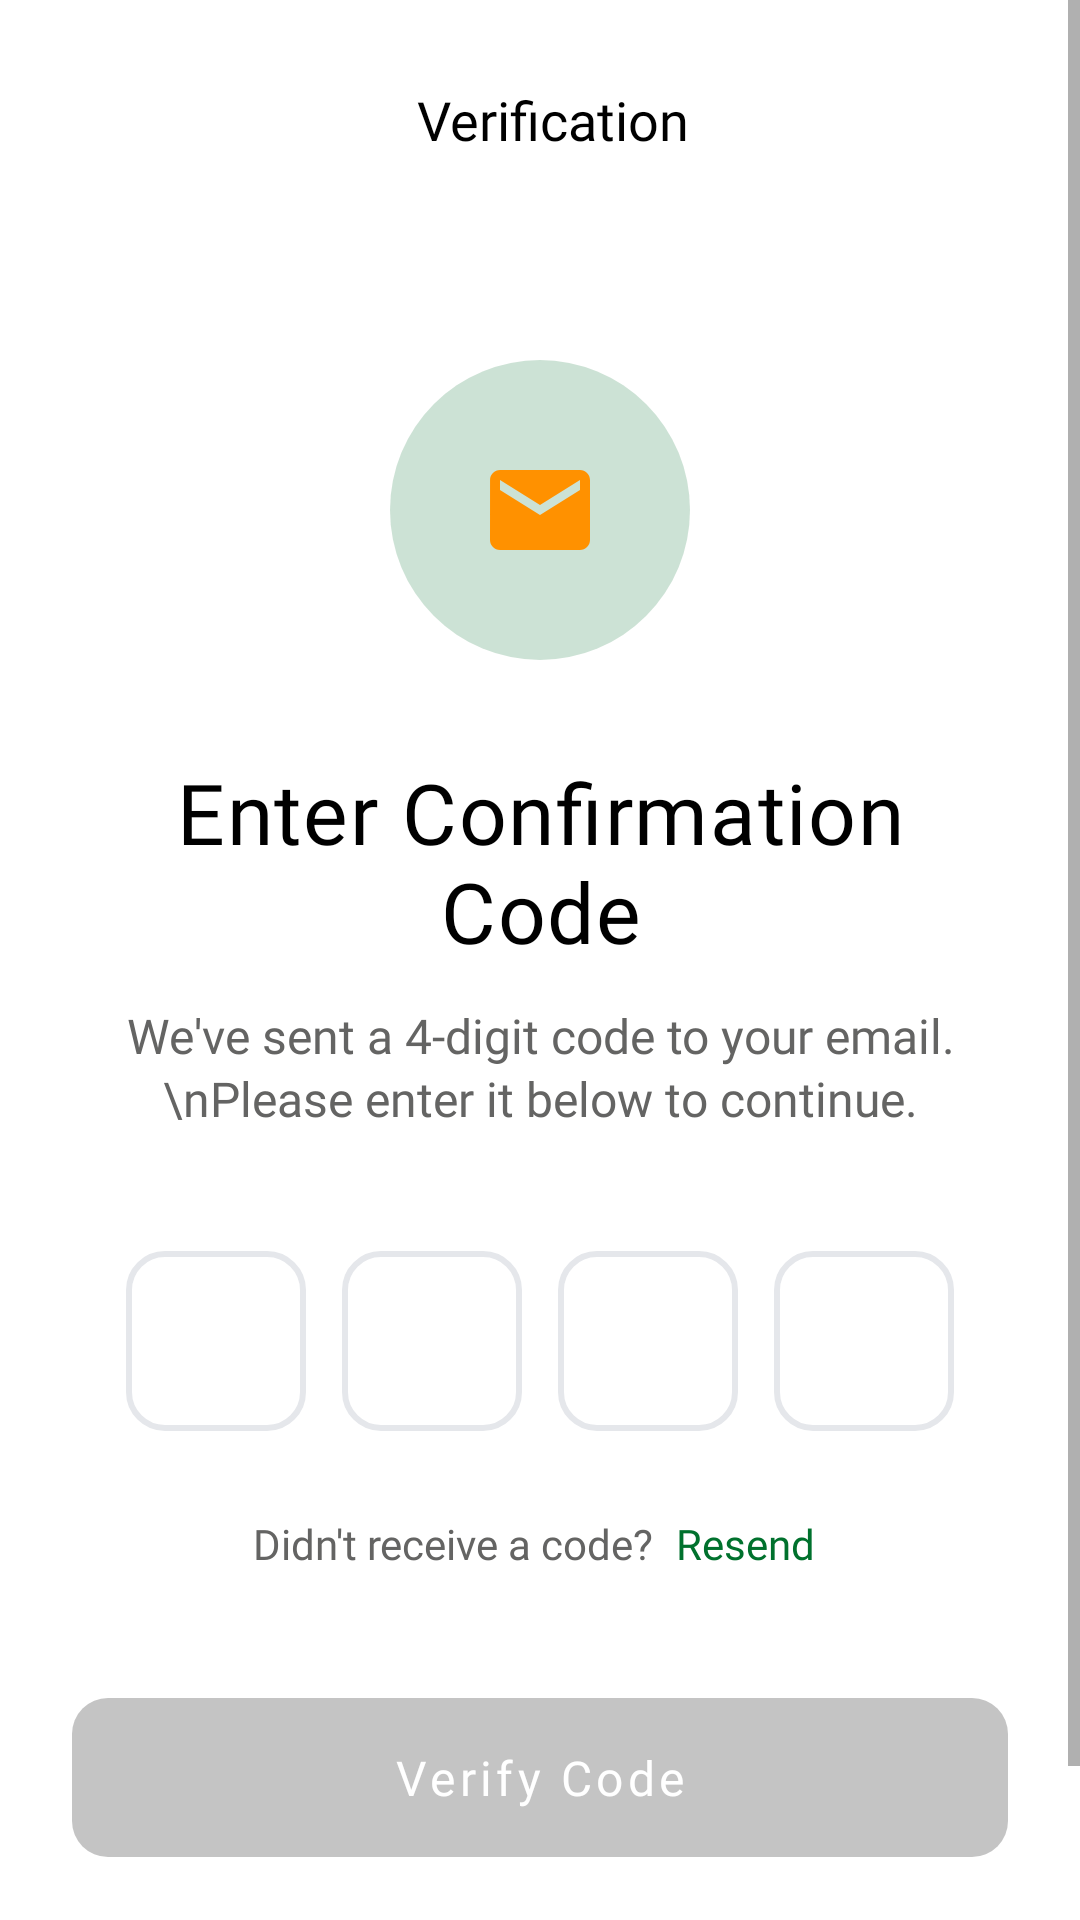

Named icons in this screenshot (1080*1920) and their centers, point (x, y):
email: point (540, 510)
